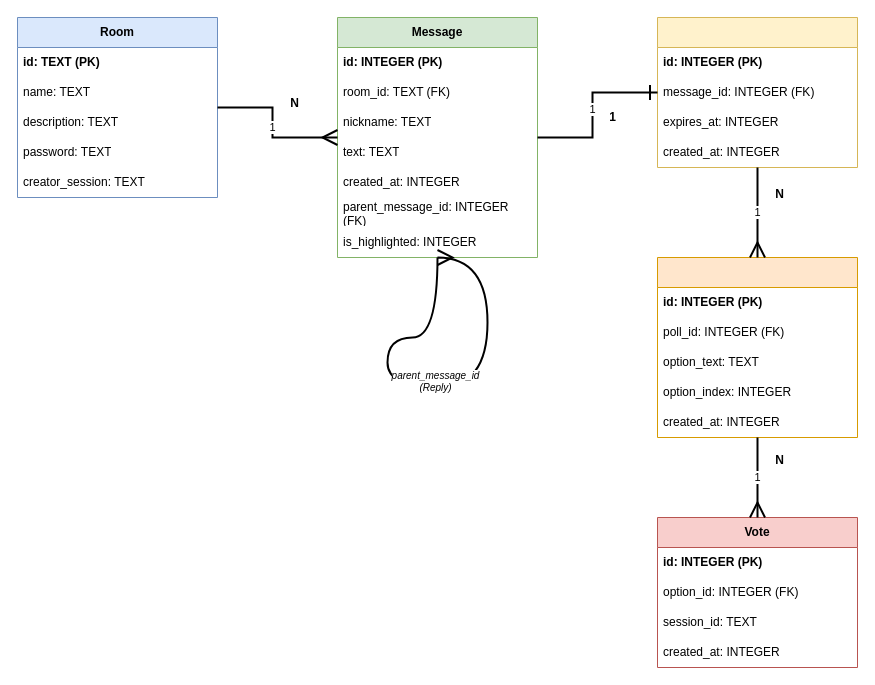
This 875x685 diagram has some shape labels left out. The shapes that lost their labels are listed below. From the top down, each one's box as (x1, y1, x2, y2) in pixels, then its label:
(656, 16, 858, 168): Poll
(656, 256, 858, 438): Poll_Option
